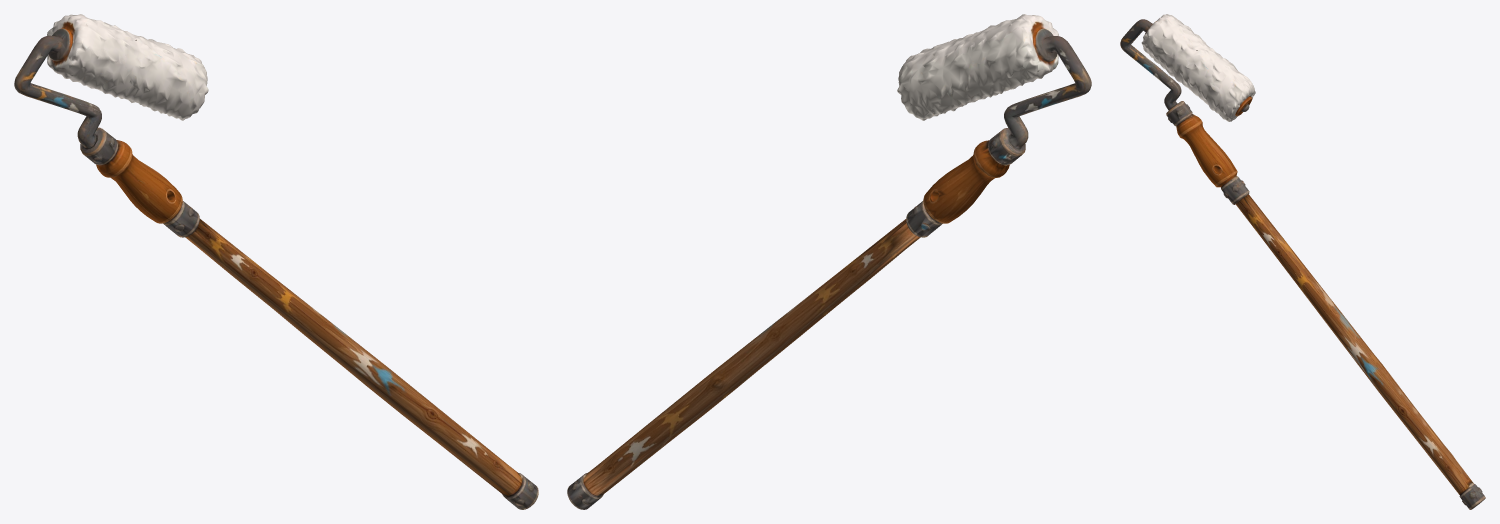
Rendered from d_roller.glb.
3 views of the same model, side by side, from view 1: azimuth 30°, elevation 25°; view 2: azimuth 150°, elevation 25°; view 3: azimuth 330°, elevation 25° (orthographic). The views are drawn at different scales.
Size of the model in its own units: 1.73 by 1.9 by 0.1976.
1 material, 1 textured.
